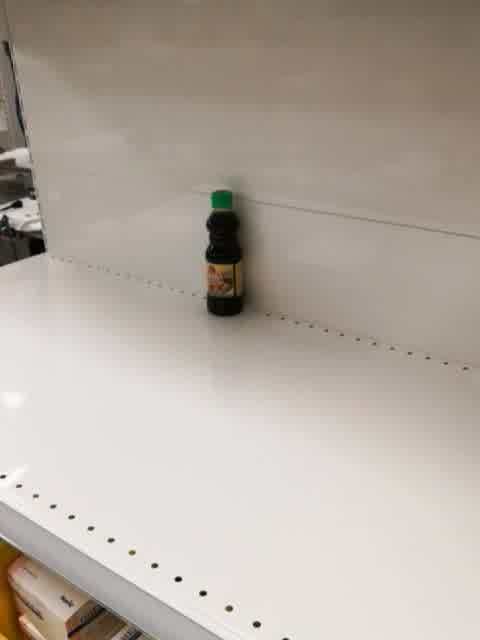cookingoil: (202, 186, 247, 319)
